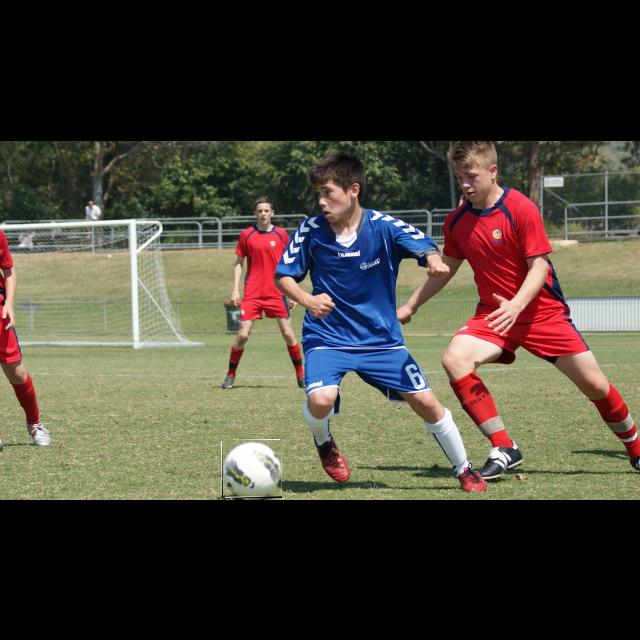Football: (222, 440, 282, 498)
